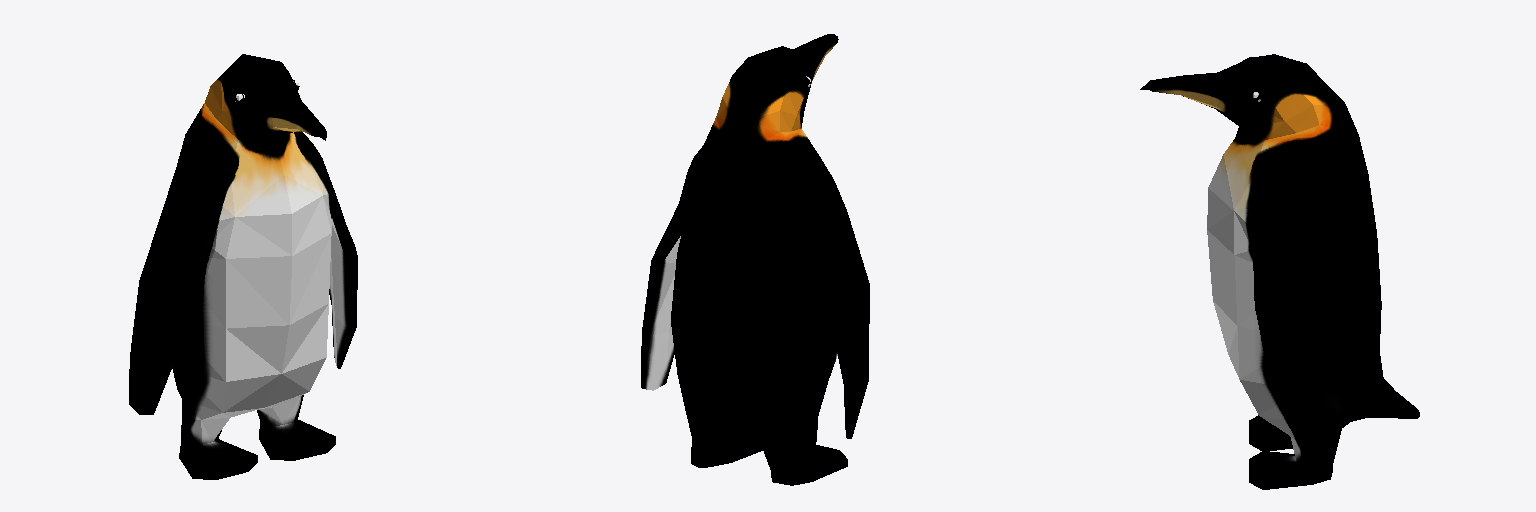
3 views of the same model, side by side, from view 1: azimuth 30°, elevation 25°; view 2: azimuth 150°, elevation 25°; view 3: azimuth 270°, elevation 25° (orthographic).
Parts seen in each view (by area): view 1: real-penger; view 2: real-penger; view 3: real-penger.
Boxes of the visible parts, <box> form: real-penger: <box>129,54,357,479</box>; real-penger: <box>641,34,869,485</box>; real-penger: <box>1140,54,1419,489</box>.
Bounding box in the file's own units: 1.87 × 3.31 × 2.12.
Materials: 1 (1 with a texture image).